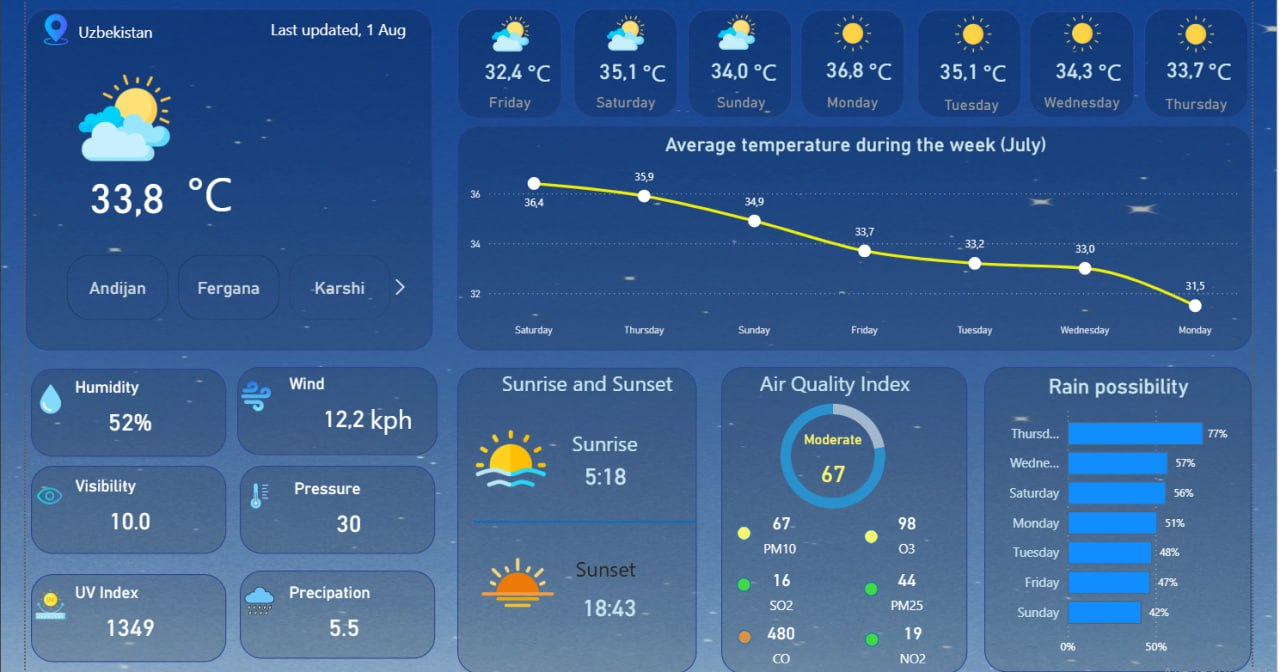

The dashboard page shown, as its layout file describes it:
{"tool":"powerbi","page":{"name":"Page 1","canvas":[1280,720],"ordinal":0},"visuals":[{"type":"donutChart","title":"Pressure","fields":{"Y":["weather.PM10 Value","weather.left value PM10"]},"box":[769,399,147,163],"z":0},{"type":"shape","box":[0,12.6,424.6,357.3],"z":1000},{"type":"shape","box":[5.4,603.3,203.8,92.5],"z":2000},{"type":"shape","box":[223.5,599.7,203.8,92.5],"z":3000},{"type":"shape","box":[450.6,12.4,108.8,114.7],"z":4000},{"type":"shape","box":[5.4,490.2,203.8,92.5],"z":5000},{"type":"shape","box":[223.5,490.2,203.8,92.5],"z":6000},{"type":"shape","box":[5.4,388.7,203.8,92.5],"z":7000},{"type":"shape","box":[220.8,386.9,209.2,92.5],"z":8000},{"type":"shape","box":[726,387,257,321],"z":9000},{"type":"shape","box":[450.7,387.8,250.5,320.5],"z":10000},{"type":"advancedSlicerVisual","fields":{"Values":["weather.City"]},"box":[18,265,388,78],"z":11000},{"type":"card","title":"Wind ","fields":{"Values":["Avg(weather.WindSpeed_kph)"]},"box":[270.3,393.8,123.5,74.1],"z":12000},{"type":"textbox","box":[346.5,417.5,70,80.8],"z":13000},{"type":"card","title":"Pressure","fields":{"Values":["Avg(weather.Pressure)"]},"box":[275.8,503.6,123.5,74.1],"z":14000},{"type":"textbox","box":[46,18,101,61],"z":15000},{"type":"textbox","box":[228,18,197,61],"z":16000},{"type":"card","fields":{"Values":["Median(weather.Temperature_C)"]},"box":[32.9,167.4,145.5,78.2],"z":17000},{"type":"textbox","box":[163.3,167.4,299.1,78.2],"z":18000},{"type":"card","fields":{"Values":["Avg(weather.Temperature_C)"]},"box":[467.8,57.8,62.2,42.2],"z":19000},{"type":"shape","box":[572.2,12.2,108.9,114.4],"z":20000},{"type":"shape","box":[691.1,13.3,108.9,113.3],"z":21000},{"type":"shape","box":[808.9,13.5,108.6,113.1],"z":22000},{"type":"shape","box":[931,13.5,108.6,113.1],"z":23000},{"type":"shape","box":[1047.7,15.3,110.4,111.3],"z":24000},{"type":"shape","box":[1168,12.6,108.6,114],"z":25000},{"type":"card","fields":{"Values":["Min(weather.Buchen)"]},"box":[474.4,91.1,63.3,41.1],"z":26000},{"type":"image","box":[477.8,14.4,56.7,48.9],"z":27000},{"type":"textbox","box":[518.9,57.8,63.3,42.2],"z":28000},{"type":"card","fields":{"Values":["Avg(weather.Temperature_C)"]},"box":[588,57.1,62.2,42.2],"z":29000},{"type":"card","fields":{"Values":["Min(weather.Buchen)"]},"box":[588.9,91.1,75.6,41.1],"z":30000},{"type":"image","box":[598,13.8,56.7,48.9],"z":31000},{"type":"textbox","box":[639.1,57.1,63.3,42.2],"z":32000},{"type":"card","fields":{"Values":["Avg(weather.Temperature_C)"]},"box":[703.6,56.2,62.2,42.2],"z":33000},{"type":"card","fields":{"Values":["Min(weather.Buchen)"]},"box":[715.6,91.1,63.3,41.1],"z":34000},{"type":"image","box":[713.6,12.9,56.7,48.9],"z":35000},{"type":"textbox","box":[754.7,56.2,63.3,42.2],"z":36000},{"type":"card","fields":{"Values":["Avg(weather.Temperature_C)"]},"box":[823.8,55.6,62.2,42.2],"z":37000},{"type":"card","fields":{"Values":["Min(weather.Buchen)"]},"box":[826.7,91.1,73.3,41.1],"z":38000},{"type":"textbox","box":[874.9,55.6,63.3,42.2],"z":39000},{"type":"card","fields":{"Values":["Avg(weather.Temperature_C)"]},"box":[943.6,57.1,62.2,42.2],"z":40000},{"type":"card","fields":{"Values":["Min(weather.Buchen)"]},"box":[946.7,93.3,83.3,41.1],"z":41000},{"type":"textbox","box":[994.7,57.1,63.3,42.2],"z":42000},{"type":"card","fields":{"Values":["Avg(weather.Temperature_C)"]},"box":[1063.8,56.4,62.2,42.2],"z":43000},{"type":"card","fields":{"Values":["Min(weather.Buchen)"]},"box":[1055.6,91.1,94.4,41.1],"z":44000},{"type":"textbox","box":[1114.9,56.4,63.3,42.2],"z":45000},{"type":"card","fields":{"Values":["Avg(weather.Temperature_C)"]},"box":[1179.3,55.6,62.2,42.2],"z":46000},{"type":"card","fields":{"Values":["Min(weather.Buchen)"]},"box":[1181.1,92.2,82.2,41.1],"z":47000},{"type":"textbox","box":[1230,55.6,50,42.2],"z":48000},{"type":"image","box":[835.6,14.4,55.6,47.8],"z":49000},{"type":"image","box":[961.1,15.6,55.6,47.8],"z":50000},{"type":"image","box":[1075.6,14.4,55.6,47.8],"z":51000},{"type":"image","box":[1194.4,15.6,55.6,47.8],"z":52000},{"type":"lineChart","title":"Average temperature during the week (July)","fields":{"Y":["Avg(weather.Temperature_C)"],"Category":["weather.Buchen"]},"box":[450.3,134.2,829.7,235.4],"z":53000},{"type":"card","fields":{"Values":["Min(weather.Sunrise)"]},"box":[558,468,93,66],"z":54000},{"type":"textbox","box":[468,384,243,60],"z":55000},{"type":"textbox","box":[566,447,140,59],"z":56000},{"type":"card","fields":{"Values":["Min(weather.Sunset)"]},"box":[558.3,605,102.1,65.2],"z":57000},{"type":"textbox","box":[569,577.8,140.1,60.3],"z":58000},{"type":"image","box":[467.7,552.1,91.6,119.4],"z":59000},{"type":"image","box":[465,430,82.6,104.1],"z":60000},{"type":"clusteredBarChart","title":"Rain possibility ","fields":{"Category":["weather.Buchen"],"Y":["weather.% Humidity"]},"box":[1001.4,387.1,278.6,318.6],"z":61000},{"type":"shape","box":[468,520,232,58],"z":62000},{"type":"image","box":[5.4,388.7,41.3,63.7],"z":63000},{"type":"image","box":[220,386,41.3,62.8],"z":64000},{"type":"card","title":"Humidity","fields":{"Values":["weather.% Humidity"]},"box":[46.7,397.7,123.9,74.5],"z":65000},{"type":"card","title":"Pressure","fields":{"Values":["weather.PM10 Value"]},"box":[746.1,531.3,86.2,55.7],"z":66000},{"type":"card","title":"Pressure","fields":{"Values":["Avg(weather.SO2)"]},"box":[746.1,590.6,86.2,55.7],"z":67000},{"type":"card","title":"Pressure","fields":{"Values":["Avg(weather.CO)"]},"box":[746,646,86,55],"z":68000},{"type":"card","title":"Pressure","fields":{"Values":["Avg(weather.O3)"]},"box":[877.2,531.3,86.2,55.7],"z":69000},{"type":"card","title":"Pressure","fields":{"Values":["Avg(weather.PM25)"]},"box":[877.2,590.6,86.2,55.7],"z":70000},{"type":"card","title":"Pressure","fields":{"Values":["Avg(weather.NO2)"]},"box":[883,646,86,55],"z":71000},{"type":"shape","box":[742.5,552.9,15.3,15.3],"z":72000},{"type":"shape","box":[742,607,15,15],"z":73000},{"type":"shape","box":[743,662,15,15],"z":74000},{"type":"shape","box":[875.5,556.9,15.3,15.3],"z":75000},{"type":"shape","box":[875,611,15,15],"z":76000},{"type":"shape","box":[876,664,15,15],"z":77000},{"type":"card","fields":{"Values":["weather.PM10 Value"]},"box":[799.9,455.2,86.2,69.1],"z":78000},{"type":"textbox","box":[726,384,243,60],"z":79000},{"type":"image","box":[8,0,47,69],"z":80000},{"type":"image","box":[50,73,106,107],"z":81000},{"type":"image","box":[4.5,490.2,41,62.8],"z":82000},{"type":"card","title":"Visibility ","fields":{"Values":["Min(uzbekistan_weather_30days_full.Visibility_km)"]},"box":[46.7,500.9,123.9,74.5],"z":83000},{"type":"card","title":"UV Index","fields":{"Values":["Sum(uzbekistan_weather_30days_full.UV_Index)"]},"box":[46.7,612.3,123.9,74.5],"z":84000},{"type":"card","title":"Precipation","fields":{"Values":["Max(uzbekistan_weather_30days_full.Precipitation_mm)"]},"box":[270.2,612.3,123.9,74.5],"z":85000},{"type":"image","box":[5.4,603.3,41,62.8],"z":86000},{"type":"image","box":[223.5,599.7,41,63],"z":87000},{"type":"image","box":[223.5,490.2,41.3,63.7],"z":88000}]}

Visuals, with their boxes on the page's 1280x720 design canvas (x1, y1, x2, y2). These are canvas units, not pixel positions in the 1280x672 screenshot, which may show the page scaled, cropped or inside an application window:
"Pressure" donutChart: [769, 399, 916, 562]
shape: [0, 13, 425, 370]
shape: [5, 603, 209, 696]
shape: [224, 600, 427, 692]
shape: [451, 12, 559, 127]
shape: [5, 490, 209, 583]
shape: [224, 490, 427, 583]
shape: [5, 389, 209, 481]
shape: [221, 387, 430, 479]
shape: [726, 387, 983, 708]
shape: [451, 388, 701, 708]
advancedSlicerVisual - weather.City: [18, 265, 406, 343]
"Wind " card: [270, 394, 394, 468]
textbox: [346, 418, 416, 498]
"Pressure" card: [276, 504, 399, 578]
textbox: [46, 18, 147, 79]
textbox: [228, 18, 425, 79]
card - Median(weather.Temperature_C): [33, 167, 178, 246]
textbox: [163, 167, 462, 246]
card - Avg(weather.Temperature_C): [468, 58, 530, 100]
shape: [572, 12, 681, 127]
shape: [691, 13, 800, 127]
shape: [809, 14, 918, 127]
shape: [931, 14, 1040, 127]
shape: [1048, 15, 1158, 127]
shape: [1168, 13, 1277, 127]
card - Min(weather.Buchen): [474, 91, 538, 132]
image: [478, 14, 534, 63]
textbox: [519, 58, 582, 100]
card - Avg(weather.Temperature_C): [588, 57, 650, 99]
card - Min(weather.Buchen): [589, 91, 664, 132]
image: [598, 14, 655, 63]
textbox: [639, 57, 702, 99]
card - Avg(weather.Temperature_C): [704, 56, 766, 98]
card - Min(weather.Buchen): [716, 91, 779, 132]
image: [714, 13, 770, 62]
textbox: [755, 56, 818, 98]
card - Avg(weather.Temperature_C): [824, 56, 886, 98]
card - Min(weather.Buchen): [827, 91, 900, 132]
textbox: [875, 56, 938, 98]
card - Avg(weather.Temperature_C): [944, 57, 1006, 99]
card - Min(weather.Buchen): [947, 93, 1030, 134]
textbox: [995, 57, 1058, 99]
card - Avg(weather.Temperature_C): [1064, 56, 1126, 99]
card - Min(weather.Buchen): [1056, 91, 1150, 132]
textbox: [1115, 56, 1178, 99]
card - Avg(weather.Temperature_C): [1179, 56, 1242, 98]
card - Min(weather.Buchen): [1181, 92, 1263, 133]
textbox: [1230, 56, 1280, 98]
image: [836, 14, 891, 62]
image: [961, 16, 1017, 63]
image: [1076, 14, 1131, 62]
image: [1194, 16, 1250, 63]
"Average temperature during the week (July)" lineChart: [450, 134, 1280, 370]
card - Min(weather.Sunrise): [558, 468, 651, 534]
textbox: [468, 384, 711, 444]
textbox: [566, 447, 706, 506]
card - Min(weather.Sunset): [558, 605, 660, 670]
textbox: [569, 578, 709, 638]
image: [468, 552, 559, 672]
image: [465, 430, 548, 534]
"Rain possibility " clusteredBarChart: [1001, 387, 1280, 706]
shape: [468, 520, 700, 578]
image: [5, 389, 47, 452]
image: [220, 386, 261, 449]
"Humidity" card: [47, 398, 171, 472]
"Pressure" card: [746, 531, 832, 587]
"Pressure" card: [746, 591, 832, 646]
"Pressure" card: [746, 646, 832, 701]
"Pressure" card: [877, 531, 963, 587]
"Pressure" card: [877, 591, 963, 646]
"Pressure" card: [883, 646, 969, 701]
shape: [742, 553, 758, 568]
shape: [742, 607, 757, 622]
shape: [743, 662, 758, 677]
shape: [876, 557, 891, 572]
shape: [875, 611, 890, 626]
shape: [876, 664, 891, 679]
card - weather.PM10 Value: [800, 455, 886, 524]
textbox: [726, 384, 969, 444]
image: [8, 0, 55, 69]
image: [50, 73, 156, 180]
image: [4, 490, 46, 553]
"Visibility " card: [47, 501, 171, 575]
"UV Index" card: [47, 612, 171, 687]
"Precipation" card: [270, 612, 394, 687]
image: [5, 603, 46, 666]
image: [224, 600, 264, 663]
image: [224, 490, 265, 554]
